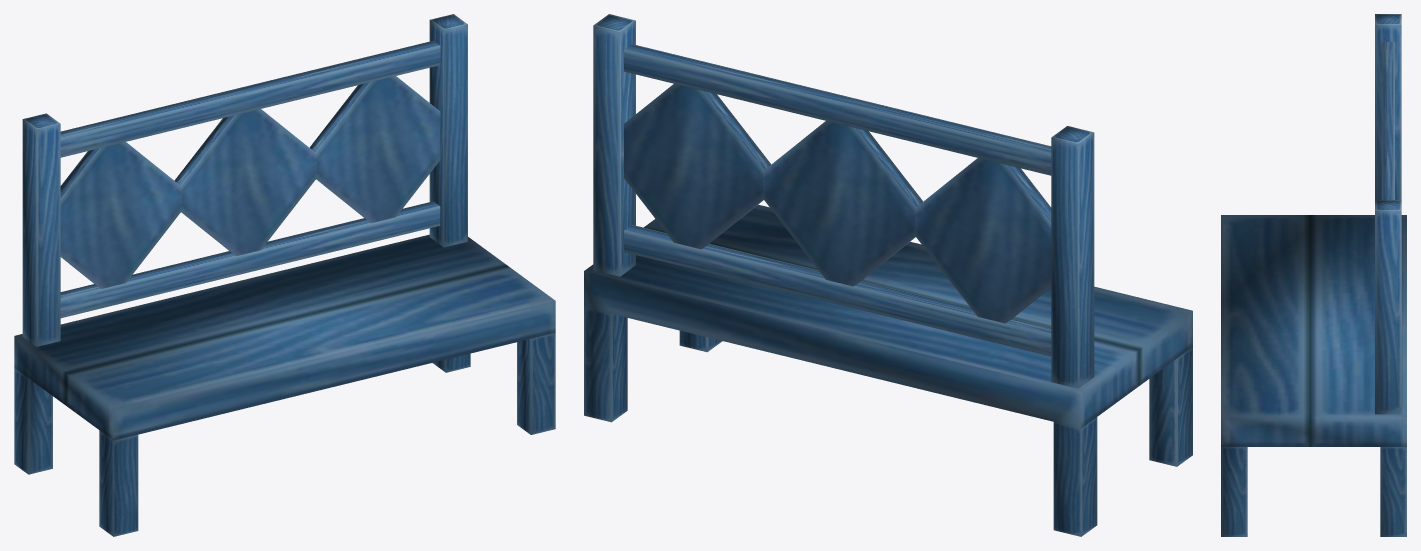
Rendered from rmk_blu_chairL.dae.
3 views of the same model, side by side, from view 1: azimuth 30°, elevation 25°; view 2: azimuth 150°, elevation 25°; view 3: azimuth 270°, elevation 25° (orthographic). The views are drawn at different scales.
Visible parts, largest first — view 1: rmk_blu_chairL; view 2: rmk_blu_chairL; view 3: rmk_blu_chairL.
Boxes of the visible parts, left/top/right/bottom form: rmk_blu_chairL: left=14, top=14, right=555, bottom=536; rmk_blu_chairL: left=584, top=14, right=1192, bottom=536; rmk_blu_chairL: left=1221, top=14, right=1406, bottom=536.
Size of the model in its own units: 57.6 by 43.07 by 22.4.
Materials: 1 (1 with a texture image).
